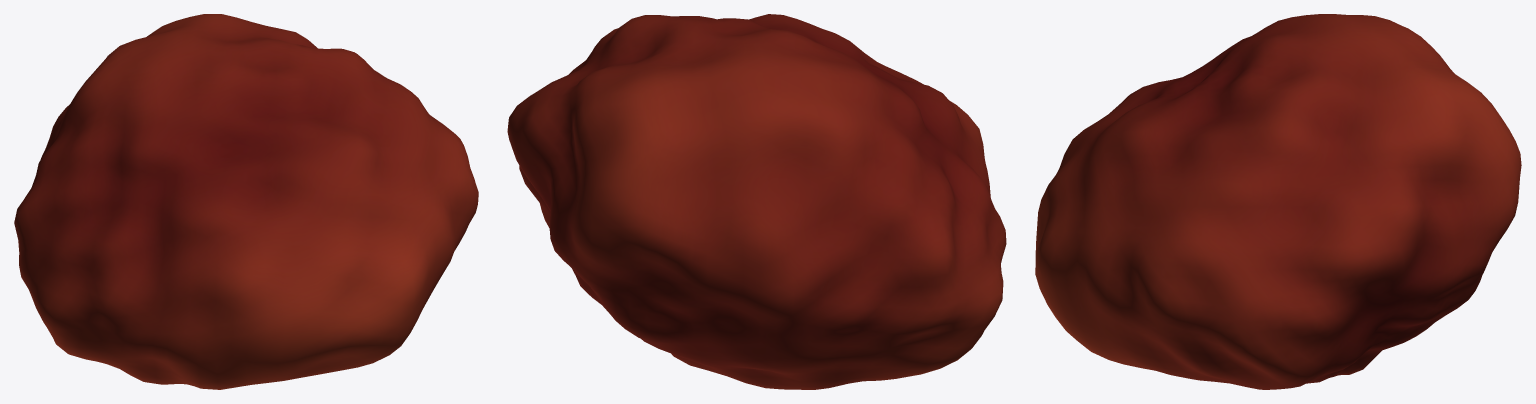
Rendered from stone_blood.fbx.
3 renders of one model, left to right at view 1: azimuth 30°, elevation 25°; view 2: azimuth 150°, elevation 25°; view 3: azimuth 270°, elevation 25°, orthographic. The views are drawn at different scales.
Visible parts, largest first — view 1: stone_blood; view 2: stone_blood; view 3: stone_blood.
Part boxes in pixels (bbox=[...]): stone_blood: bbox=[14, 14, 478, 389]; stone_blood: bbox=[507, 14, 1006, 389]; stone_blood: bbox=[1035, 14, 1521, 389].
Bounding box in the file's own units: 0.08 × 0.0552 × 0.075.
Materials: 1 (1 with a texture image).
